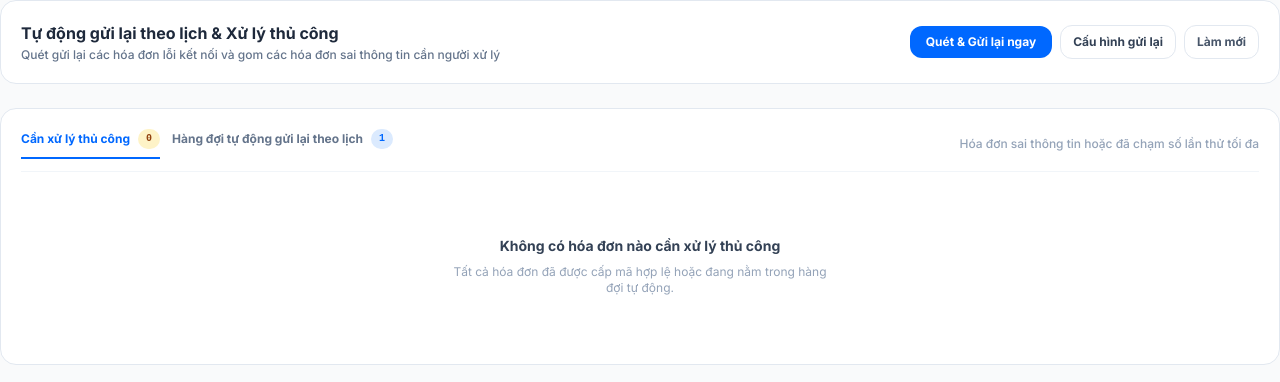
it: NCL-04-CN-007: Tự động gửi lại hóa đơn chưa được cấp mã theo lịch & Xử lý thủ công › NCL-04-CN-007-TC-04: Hiển thị Hàng đợi tự động gửi lại theo lịch kèm tiến độ và mốc thời gian
# Click chuyển sang sub-tab "Hàng đợi tự động gửi lại theo lịch"
What coordinates should you click on to do the following:
click the text "Hàng đợi tự động gửi lại theo lịch"
I would click on:
 (268, 139)
Its box is [172,131,363,147].
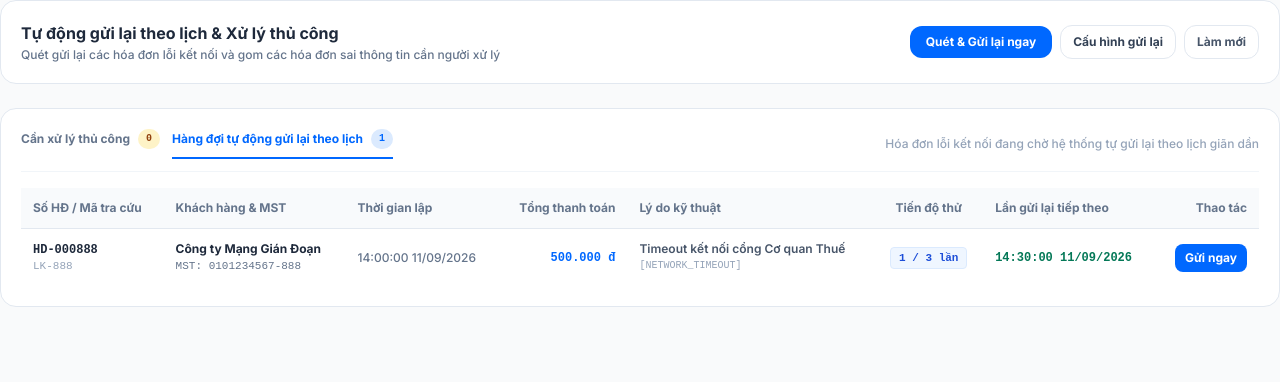
Check: the text "HD-000888" is shown, box [33,242,98,256]
Check: the text "Công ty Mạng Gián Đoạn" is shown, box [176,241,333,257]
Check: the text "Timeout kết nối cổng Cơ quan Thuế" is shown, box [639,241,862,256]
